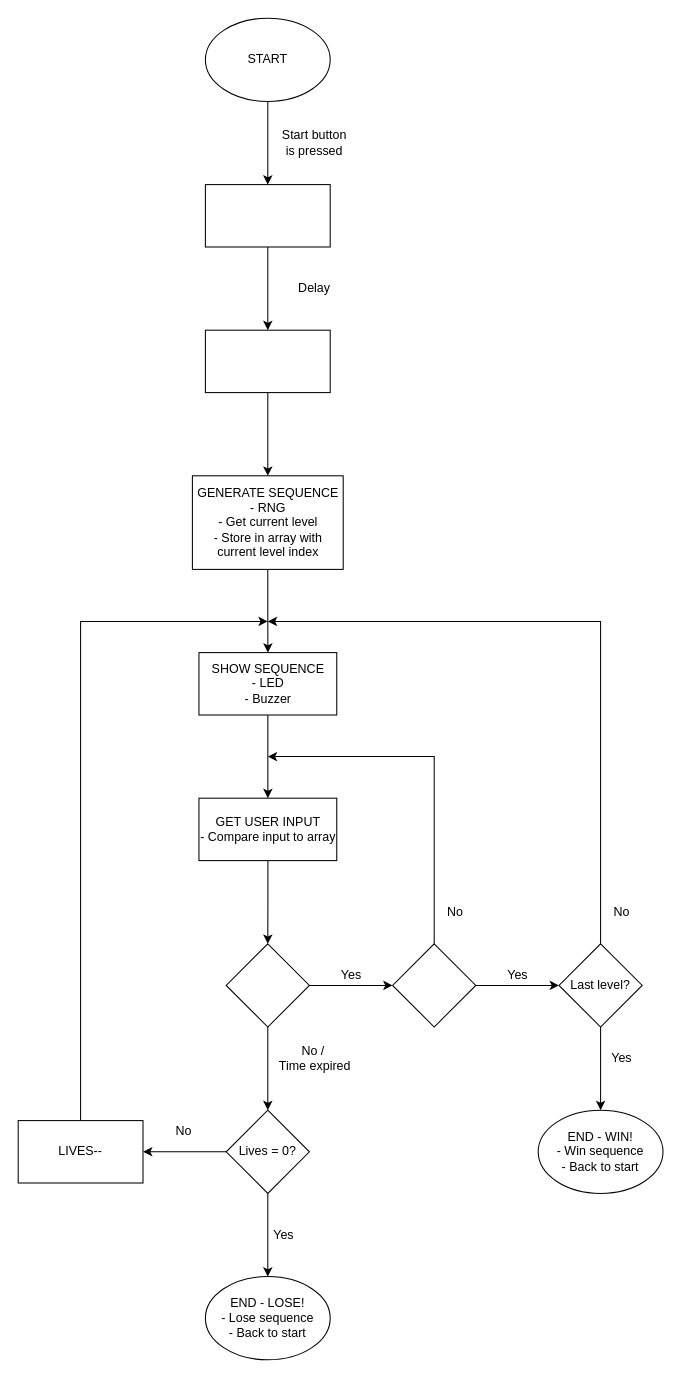
Some shapes in this 681 by 1378 pixel diagram are drawn without their labels. The shapes that lost their labels are listed below. From the top down, each one's centre as x and y in pixels, then its label:
At (x=267, y=215): "START SEQUENCE".
At (x=267, y=361): "START SEQUENCE - LED and buzzer pattern".
At (x=267, y=985): "Correct?".
At (x=434, y=985): "Last value?".
